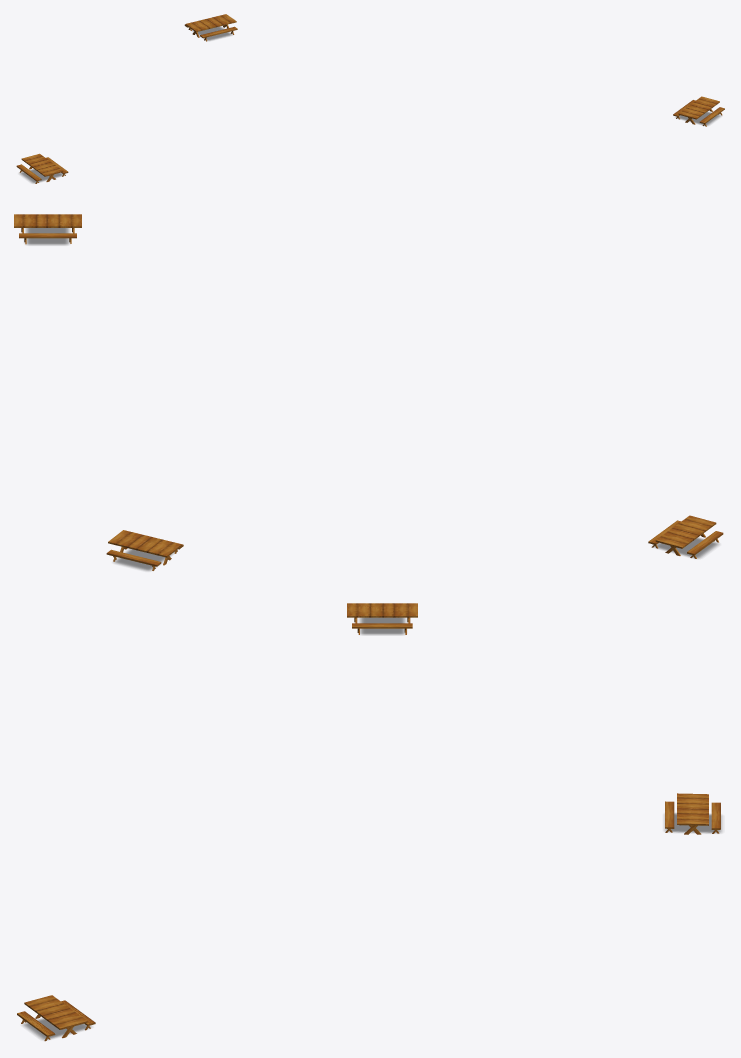
Rendered from picnic_tables.glb.
3 views of the same model, one above another, from view 1: azimuth 30°, elevation 25°; view 2: azimuth 150°, elevation 25°; view 3: azimuth 270°, elevation 25° (orthographic). The views are drawn at different scales.
Visible parts, largest first — view 1: table_top (×3); view 2: table_top (×3); view 3: table_top (×3).
Boxes of the visible parts, x1,y1,x2,y2 form: table_top (×3): (21,14,719,176); table_top (×3): (14,214,716,557); table_top (×3): (24,603,708,1029).
Bounding box in the file's own units: 180 × 3.61 × 124.
Materials: 2 (2 with a texture image).
